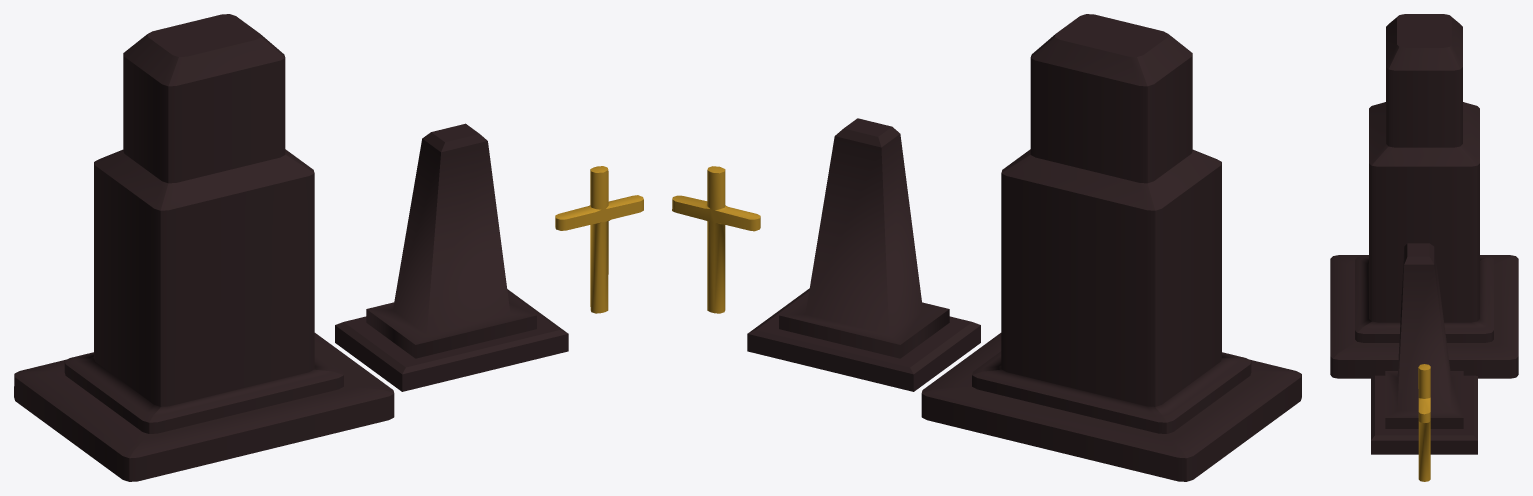
File: DefaultTombCollection.fbx
The picture shows the model from 3 angles, left to right: view 1: azimuth 30°, elevation 25°; view 2: azimuth 150°, elevation 25°; view 3: azimuth 270°, elevation 25°; orthographic projection. The views are drawn at different scales.
Visible parts, largest first — view 1: TombBaseCringe, TombBase, TombCross; view 2: TombBaseCringe, TombBase, TombCross; view 3: TombBaseCringe, TombBase, TombCross.
Part boxes in pixels (x1,y1,x2,y2): TombBaseCringe: (14, 14, 394, 481); TombBase: (335, 123, 568, 391); TombCross: (555, 166, 643, 313); TombBaseCringe: (921, 14, 1301, 481); TombBase: (747, 118, 980, 391); TombCross: (672, 166, 760, 313); TombBaseCringe: (1330, 14, 1518, 378); TombBase: (1371, 243, 1477, 454); TombCross: (1418, 364, 1430, 481).
Bounding box in the file's own units: 268 × 95.86 × 166.
